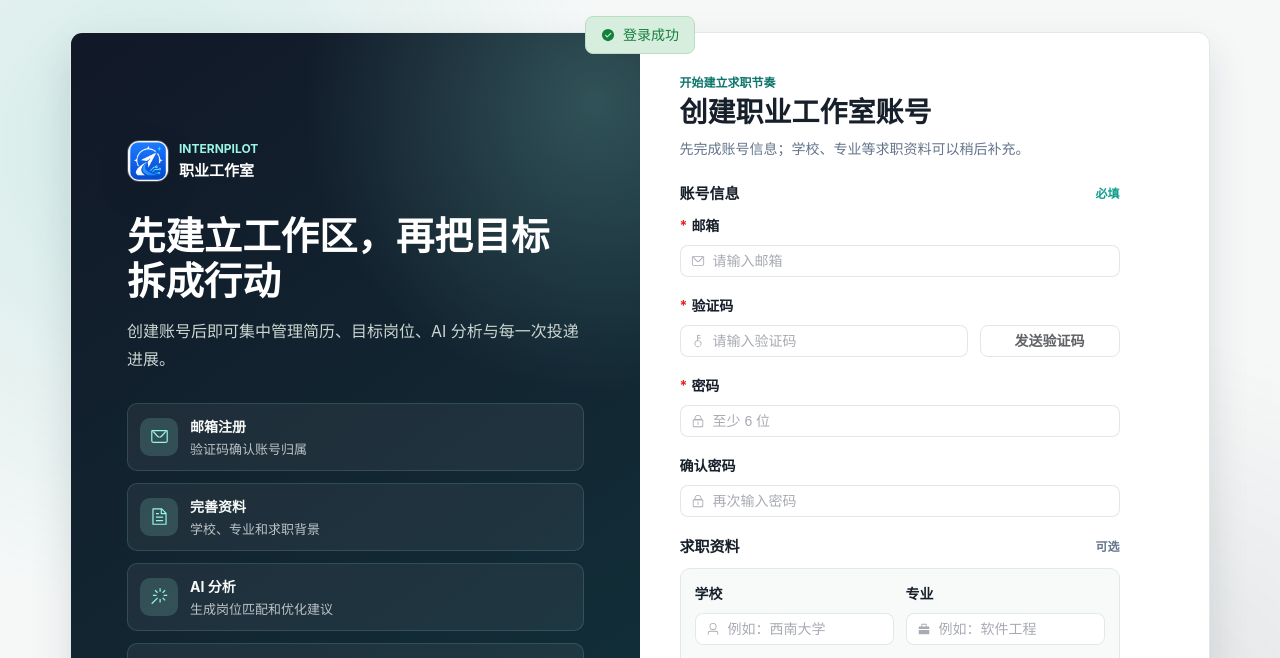
Test: authentication behavior characterization › requests an email registration code with the unchanged payload and starts cooldown
Type "new@example.com" into the field labelled "邮箱" at (910, 261), box left=712, top=246, right=1108, bottom=276
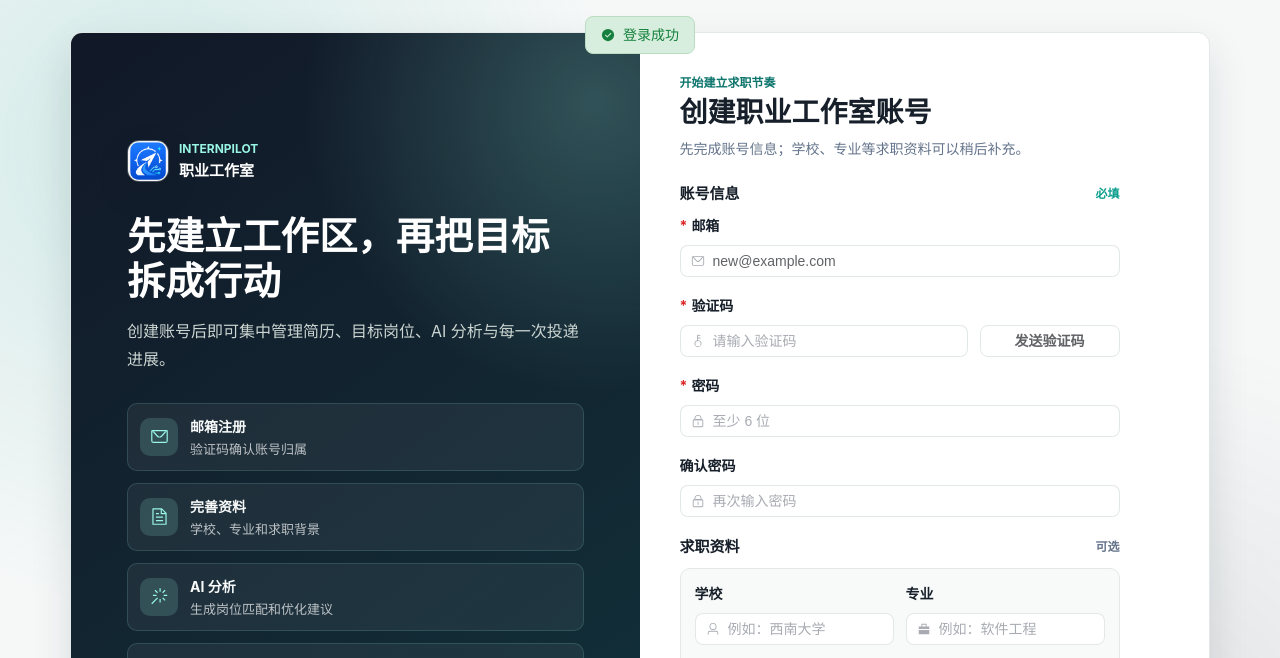
Click the button "发送验证码" at (1050, 341), box left=980, top=325, right=1120, bottom=357
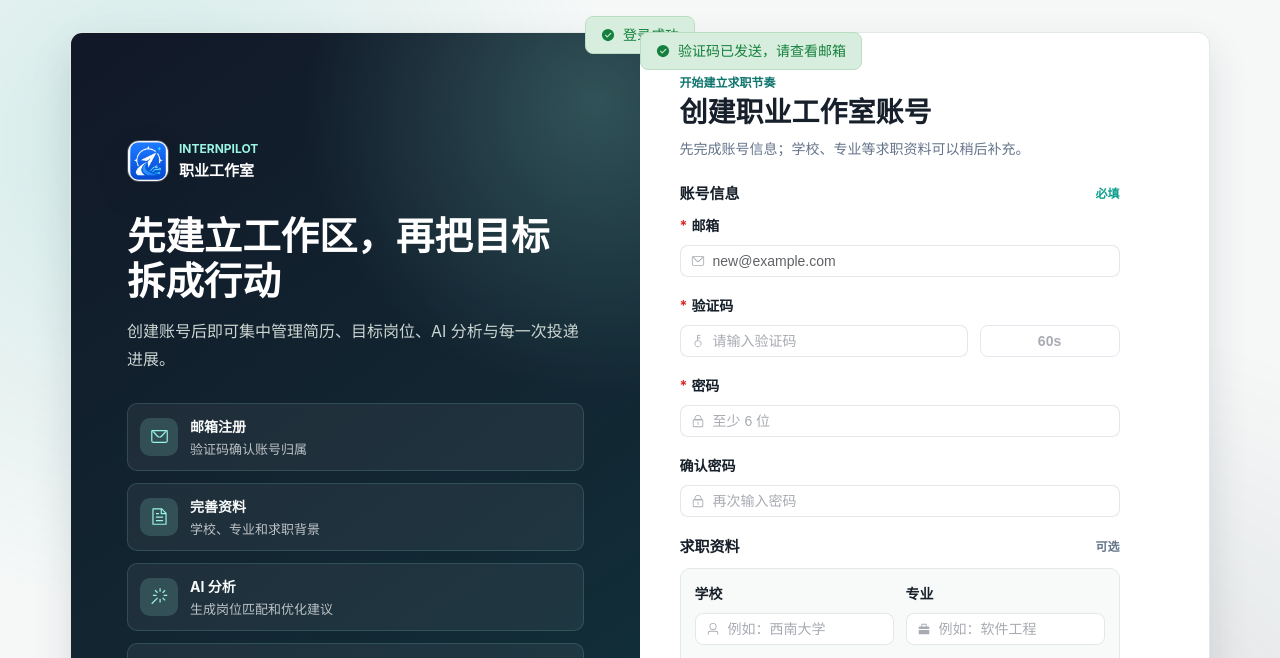
Now the text "60s" is shown, box left=1038, top=334, right=1061, bottom=348
